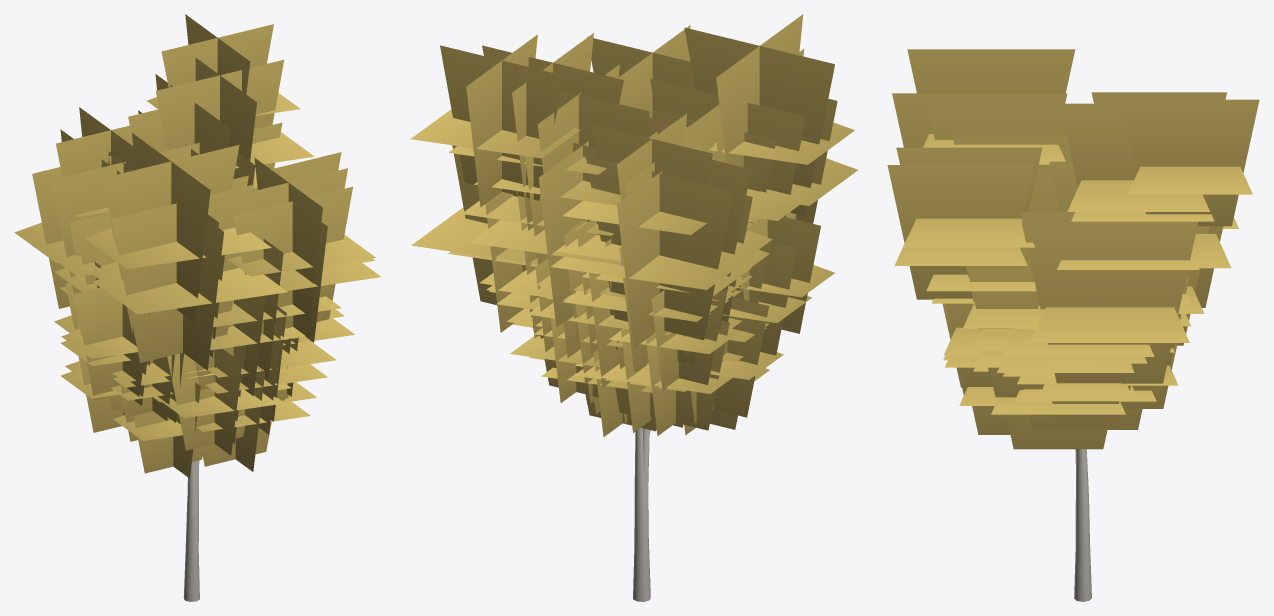
File: birch.glb
The picture shows the model from 3 angles, left to right: view 1: azimuth 30°, elevation 25°; view 2: azimuth 150°, elevation 25°; view 3: azimuth 270°, elevation 25°; orthographic projection. The views are drawn at different scales.
Visible parts, largest first — view 1: C_lod0, B_lod0, A_lod0; view 2: C_lod0, B_lod0, A_lod0; view 3: C_lod0, A_lod0, B_lod0.
Part boxes in pixels (box(x1,y1,x2,y2)): C_lod0: box(14, 14, 380, 601); B_lod0: box(54, 283, 310, 478); A_lod0: box(59, 214, 354, 540); C_lod0: box(410, 14, 857, 601); B_lod0: box(486, 258, 783, 436); A_lod0: box(489, 159, 834, 531); C_lod0: box(887, 49, 1259, 601); A_lod0: box(944, 226, 1209, 473); B_lod0: box(942, 276, 1189, 434).
Size of what is drawn, in the model's own units: 8.25 by 13.17 by 8.25.
